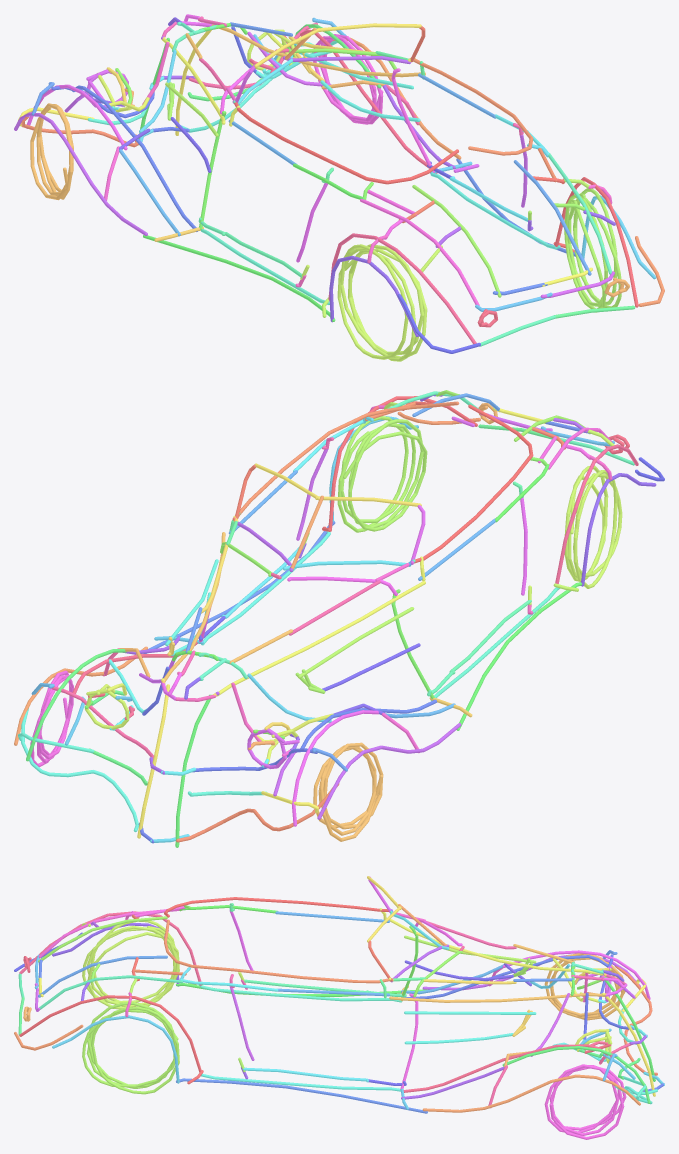
File: cassie_car.gltf
The picture shows the model from 3 angles, top to bottom: view 1: azimuth 30°, elevation 25°; view 2: azimuth 150°, elevation 25°; view 3: azimuth 270°, elevation 25°; orthographic projection. The views are drawn at different scales.
Size of the model in its own units: 0.398 by 0.2747 by 0.882.
